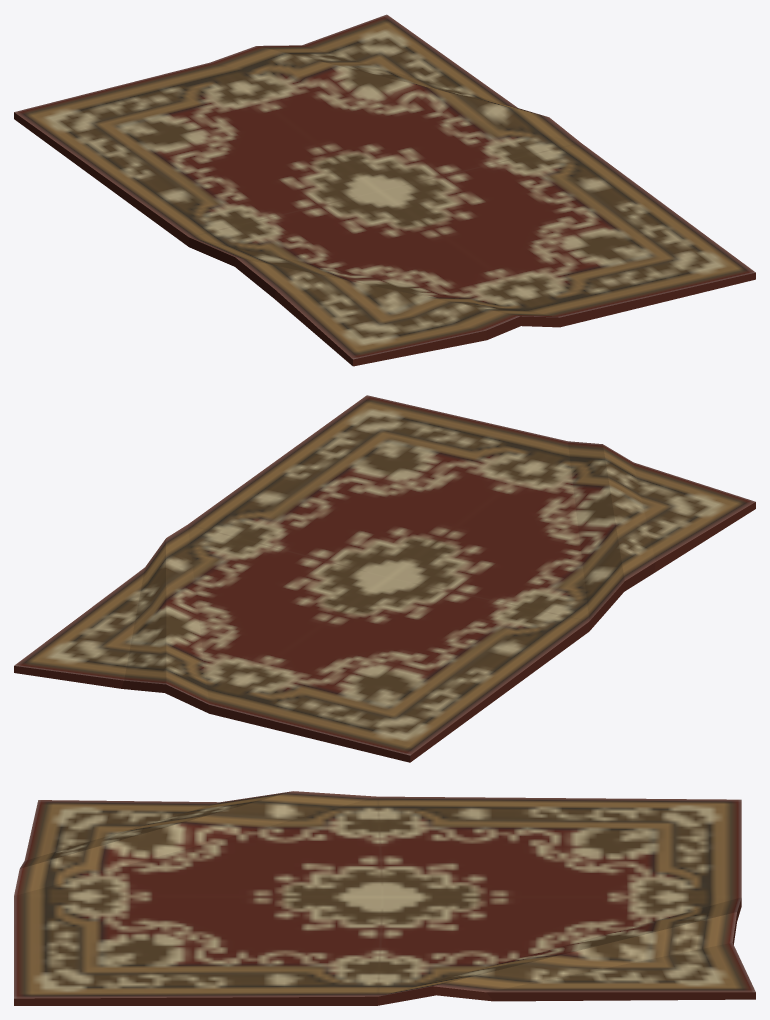
The model's file is SM_Prop_Rug_27.fbx.
3 views of the same model, one above another, from view 1: azimuth 30°, elevation 25°; view 2: azimuth 150°, elevation 25°; view 3: azimuth 270°, elevation 25° (orthographic). The views are drawn at different scales.
Parts seen in each view (by area): view 1: SM_Prop_Rug_27; view 2: SM_Prop_Rug_27; view 3: SM_Prop_Rug_27.
Boxes of the visible parts, left/top/right/bottom form: SM_Prop_Rug_27: left=14, top=14, right=755, bottom=366; SM_Prop_Rug_27: left=14, top=395, right=755, bottom=762; SM_Prop_Rug_27: left=14, top=791, right=755, bottom=1005.
Bounding box in the file's own units: 197 × 9.08 × 310.
